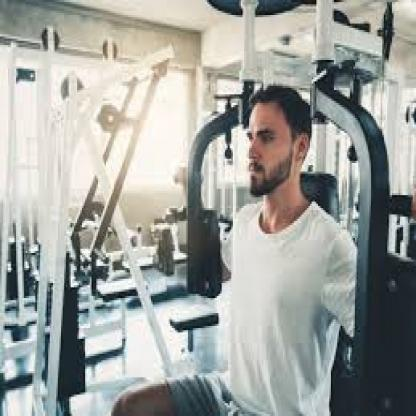chest fly machine: (101, 6, 416, 416)
